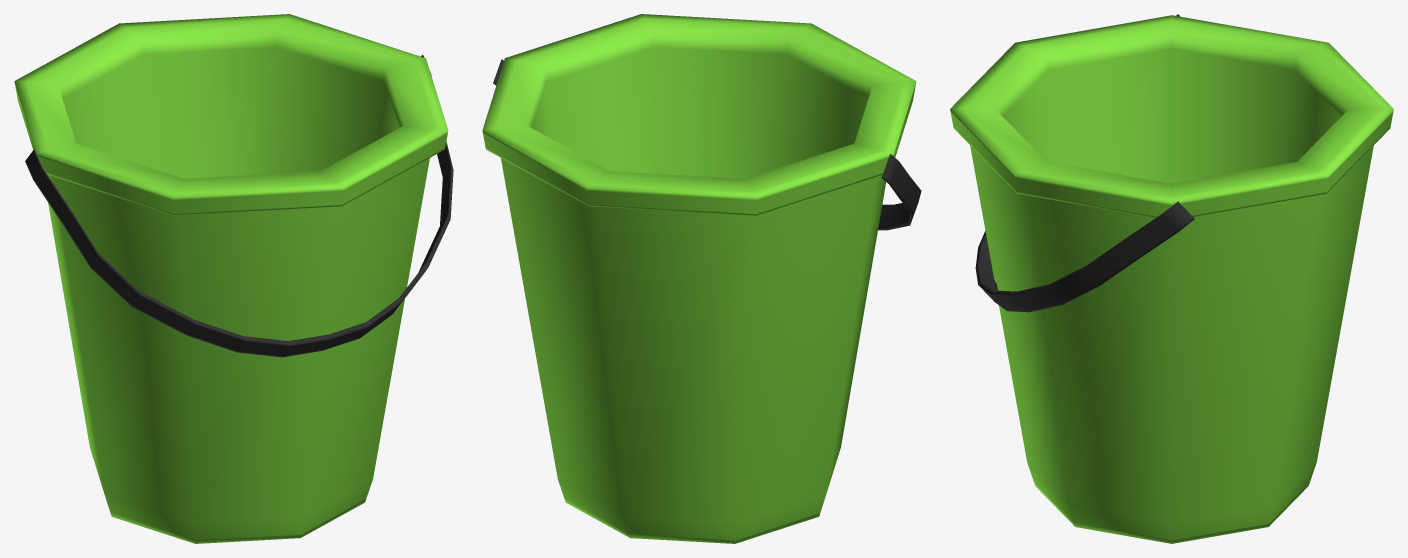
File: wiadro.fbx
3 views of the same model, side by side, from view 1: azimuth 30°, elevation 25°; view 2: azimuth 150°, elevation 25°; view 3: azimuth 270°, elevation 25° (orthographic).
Parts seen in each view (by area): view 1: wiadro; view 2: wiadro; view 3: wiadro.
Boxes of the visible parts, box(x1,y1,x2,y2) form: wiadro: box(14, 14, 453, 543); wiadro: box(482, 14, 921, 543); wiadro: box(950, 14, 1393, 543).
Size of the model in its own units: 39.65 by 37.23 by 39.59.
